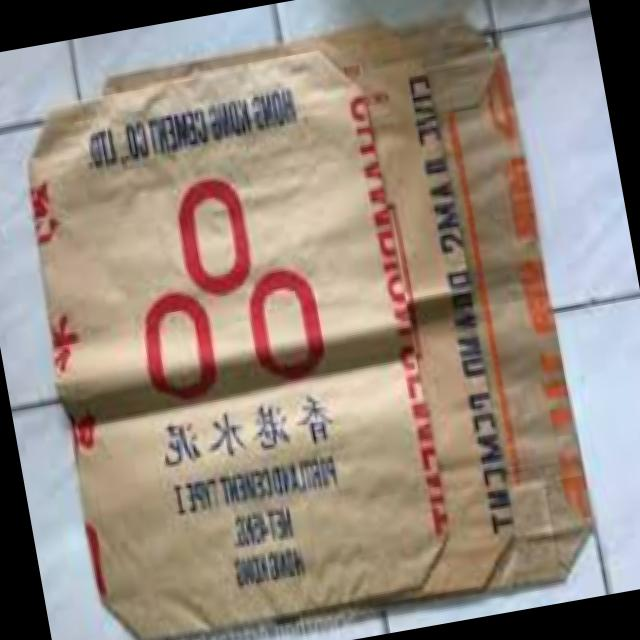KantongSemen: (10, 0, 599, 640)
